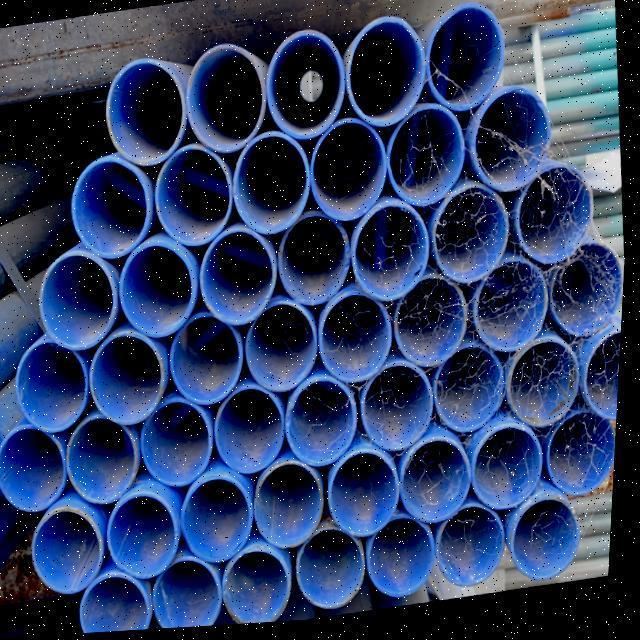pipe: (342, 19, 430, 135), (472, 93, 560, 199), (421, 8, 507, 114), (39, 252, 126, 355), (518, 171, 604, 275), (104, 60, 189, 164), (186, 46, 267, 155), (266, 33, 345, 143), (232, 135, 314, 240), (71, 156, 153, 260), (156, 148, 235, 247), (354, 208, 433, 307), (391, 110, 467, 212), (312, 125, 389, 225), (122, 245, 203, 340), (437, 191, 512, 292), (476, 264, 554, 360), (91, 337, 171, 430), (201, 233, 280, 327), (549, 250, 625, 347), (508, 343, 586, 437), (35, 506, 116, 596), (279, 217, 354, 310), (171, 317, 246, 410), (17, 340, 92, 433), (365, 366, 439, 460), (398, 280, 471, 375), (185, 478, 261, 568), (111, 494, 187, 584), (475, 428, 550, 519), (290, 380, 363, 473), (145, 401, 220, 491), (256, 465, 331, 555), (249, 307, 323, 398), (404, 442, 478, 533), (69, 418, 144, 507), (320, 299, 396, 386), (218, 391, 291, 481), (545, 420, 621, 506), (0, 427, 74, 514), (438, 350, 509, 440), (331, 456, 404, 542), (372, 519, 444, 605), (441, 509, 511, 596), (302, 530, 372, 615), (516, 504, 586, 588), (153, 562, 229, 631), (228, 551, 297, 627), (84, 577, 157, 635), (586, 337, 625, 429)
